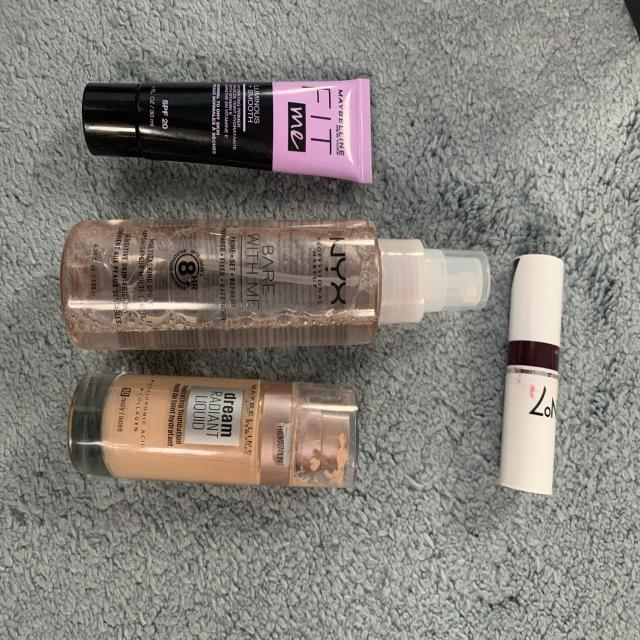foundation: (67, 374, 369, 507), (78, 64, 378, 180)
lip stick: (510, 250, 561, 515)
primer: (51, 202, 502, 356)
